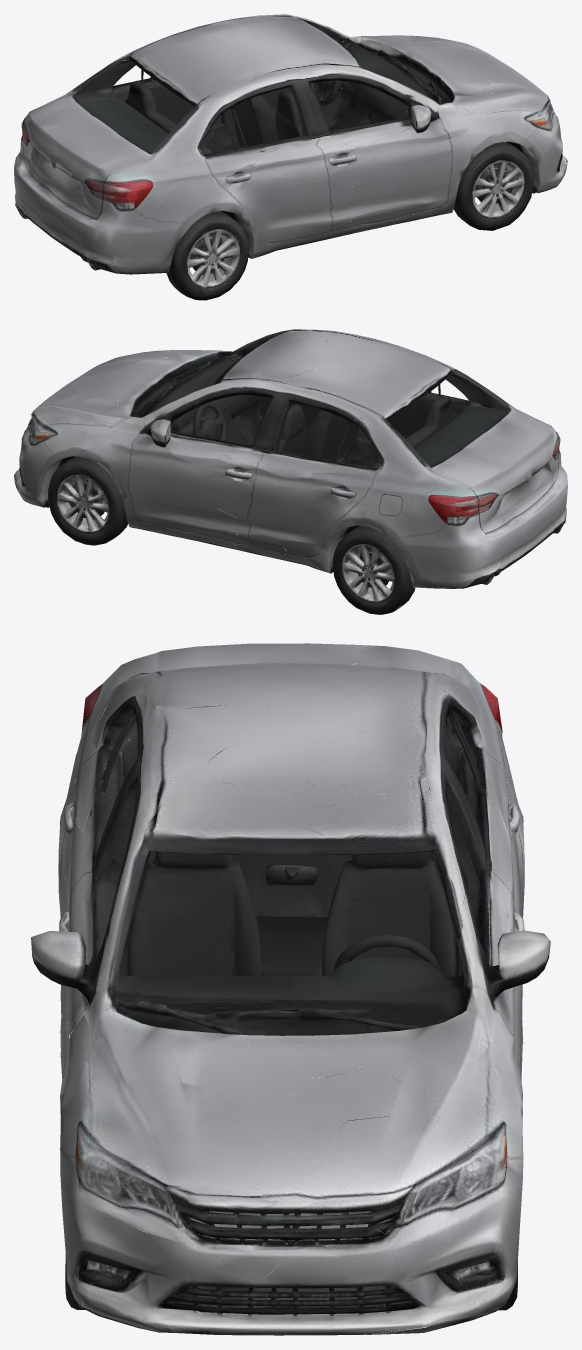
Rendered from car.glb.
The picture shows the model from 3 angles, top to bottom: view 1: azimuth 30°, elevation 25°; view 2: azimuth 150°, elevation 25°; view 3: azimuth 270°, elevation 25°; orthographic projection. The views are drawn at different scales.
Visible parts, largest first — view 1: tripo_node_65482e96-518d-42b4-b249-5623e2155b7f; view 2: tripo_node_65482e96-518d-42b4-b249-5623e2155b7f; view 3: tripo_node_65482e96-518d-42b4-b249-5623e2155b7f.
Part boxes in pixels (x1,y1,x2,y2): tripo_node_65482e96-518d-42b4-b249-5623e2155b7f: [14, 14, 567, 300]; tripo_node_65482e96-518d-42b4-b249-5623e2155b7f: [14, 329, 567, 614]; tripo_node_65482e96-518d-42b4-b249-5623e2155b7f: [31, 643, 550, 1335].
Size of the model in its own units: 4.85 by 1.84 by 2.24.
Materials: 1 (1 with a texture image).
